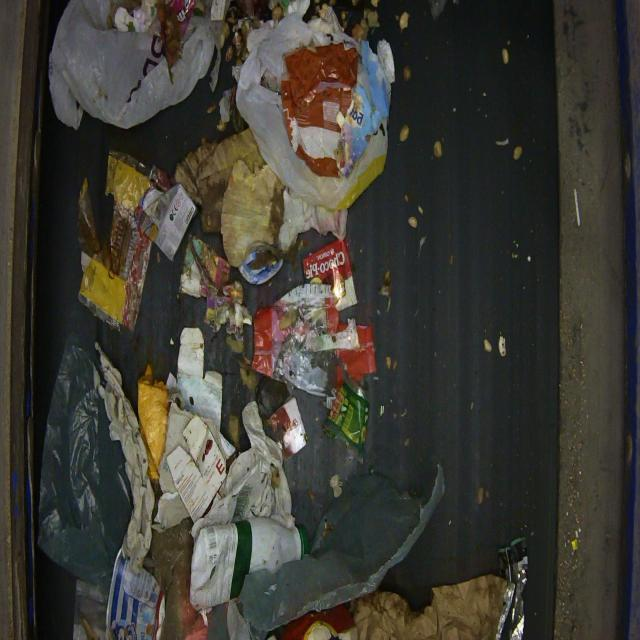cardboard: (16, 0, 563, 638)
cups: (188, 515, 304, 610)
